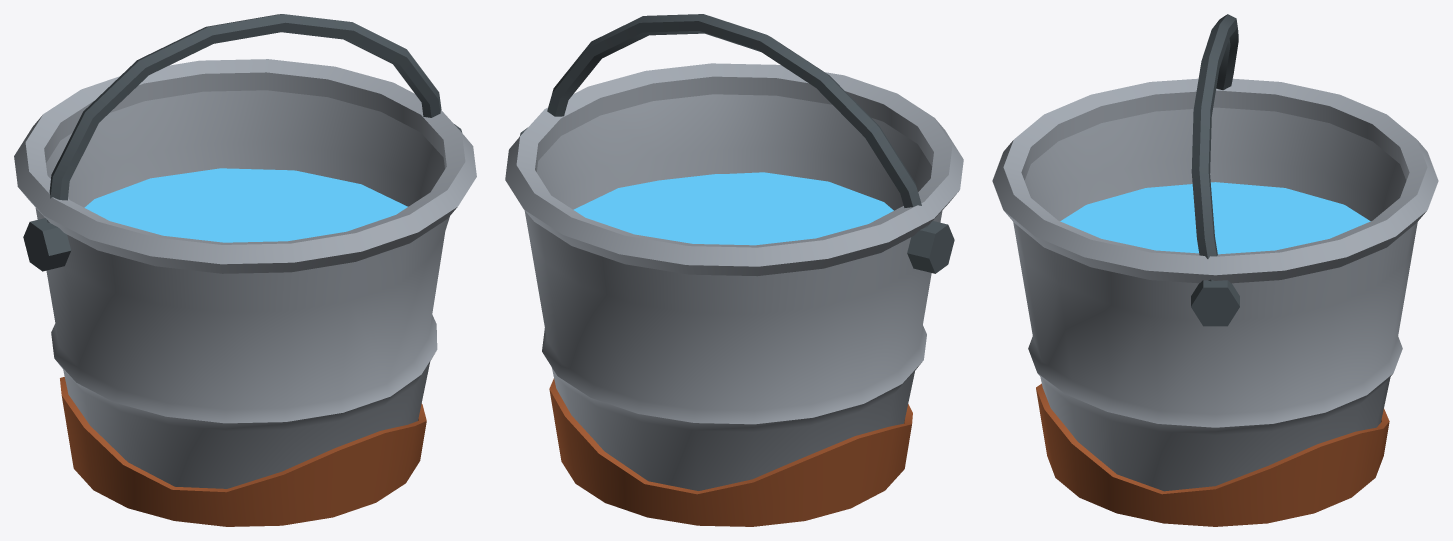
Rendered from water_tank_bucket.glb.
3 views of the same model, side by side, from view 1: azimuth 30°, elevation 25°; view 2: azimuth 150°, elevation 25°; view 3: azimuth 270°, elevation 25° (orthographic). The views are drawn at different scales.
Parts seen in each view (by area): view 1: Pail; view 2: Pail; view 3: Pail.
Boxes of the visible parts, left/top/right/bottom form: Pail: left=14, top=14, right=476, bottom=526; Pail: left=505, top=14, right=963, bottom=526; Pail: left=992, top=14, right=1438, bottom=526.
Size of the model in its own units: 0.376 by 0.3757 by 0.362.
